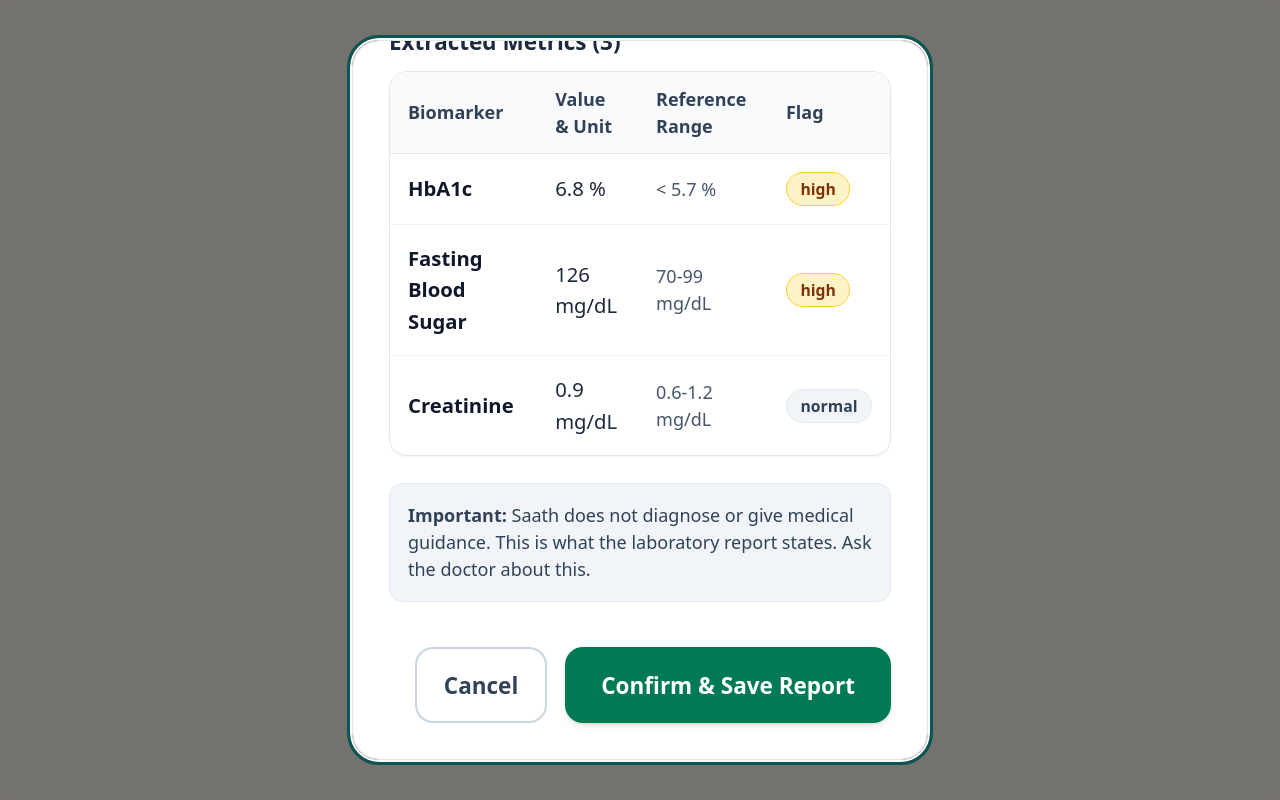
Test: ReportLensModal & ReportsView Flow, Rule 9 & Accessibility › extracts biomarkers via AI, displays neutral preview table and complies with Rule 9
Earlier steps of the test are not shown.
Later steps or results of the test are not shown.
(page scrolled)
Expected: the text "HbA1c" is shown, [390,154,537,224]
Expected: the text "6.8 %" is shown, [537,154,638,224]
Click the button "Confirm & Save Report" at [728, 686], box [565,648,891,724]
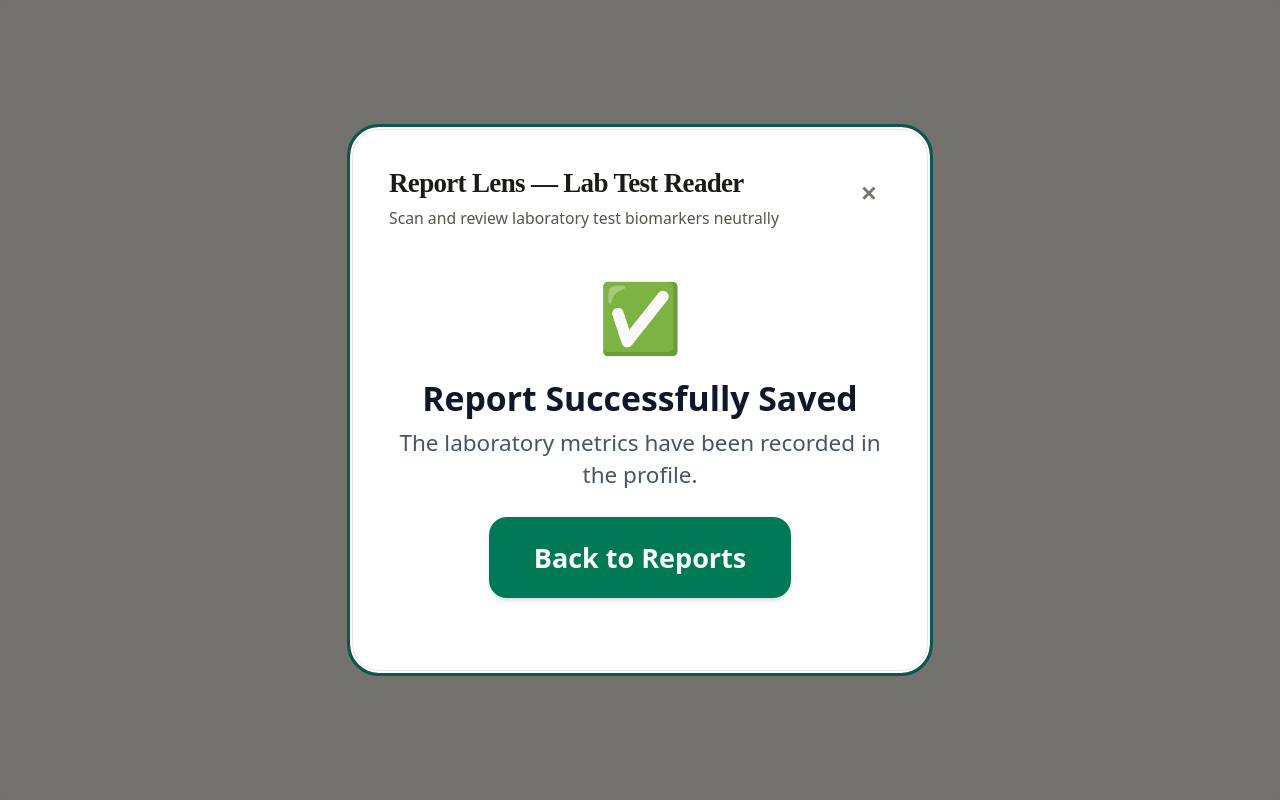
Result: the heading "Report Successfully Saved" is shown at [389,378,891,418]
